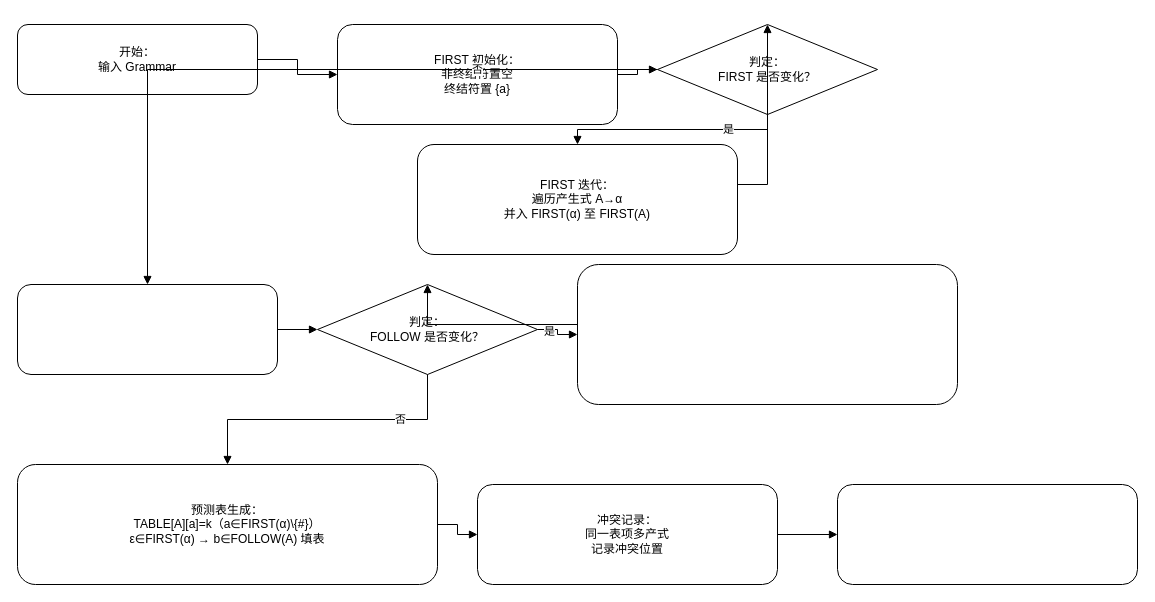
Image size: 1155x602. Some labels were removed from this diagram. Here are the shapes that lost their labels. From the top down, the centre of each, then its label:
At pixel 147 329: "FOLLOW 初始化： 开始符含 $ 其他置空".
At pixel 767 334: "FOLLOW 迭代： A→α B β FIRST(β)\{#} → FOLLOW(B) β 为空或含 # → FOLLOW(A) 并入 FOLLOW(B)".
At pixel 987 534: "输出： FIRST/FOLLOW 集合摘要 预测表摘要".
